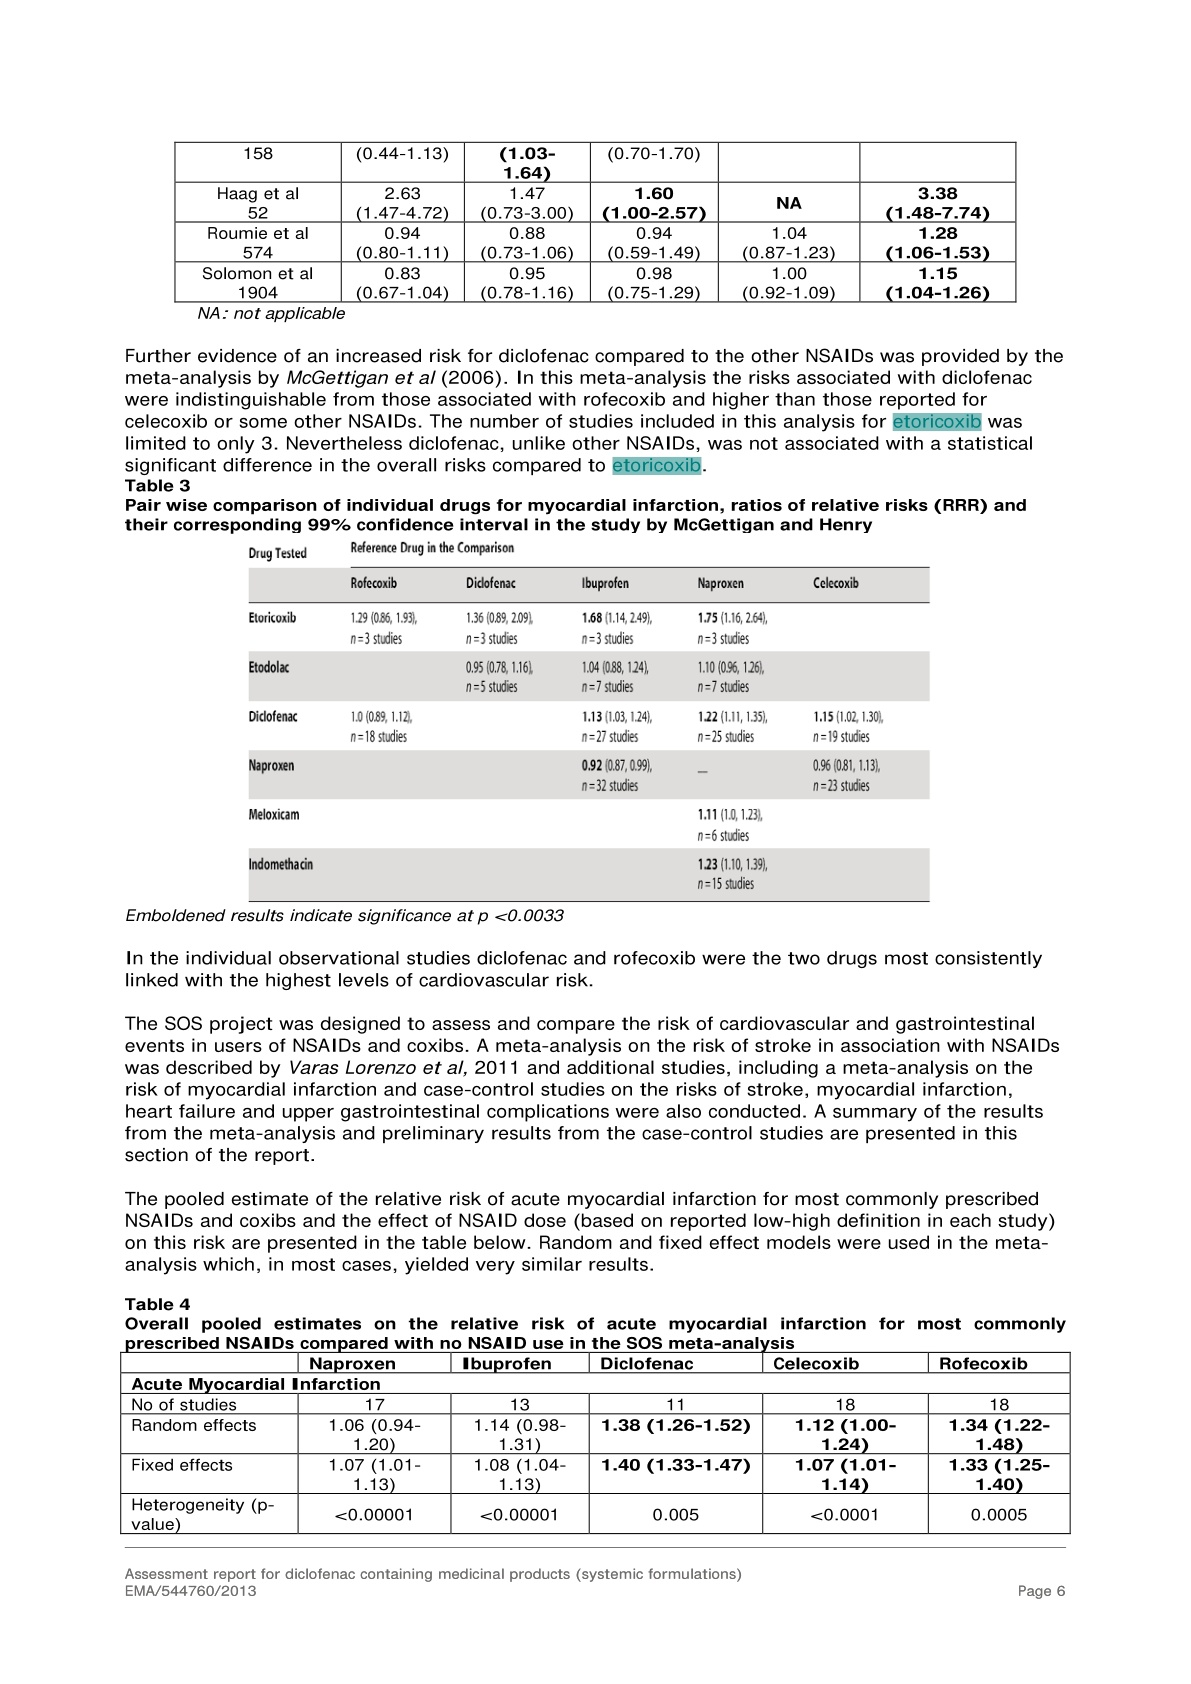full_lined: (173, 139, 1018, 305)
merged_cells: (119, 1352, 1072, 1536)
partial_lined: (247, 564, 933, 904)
